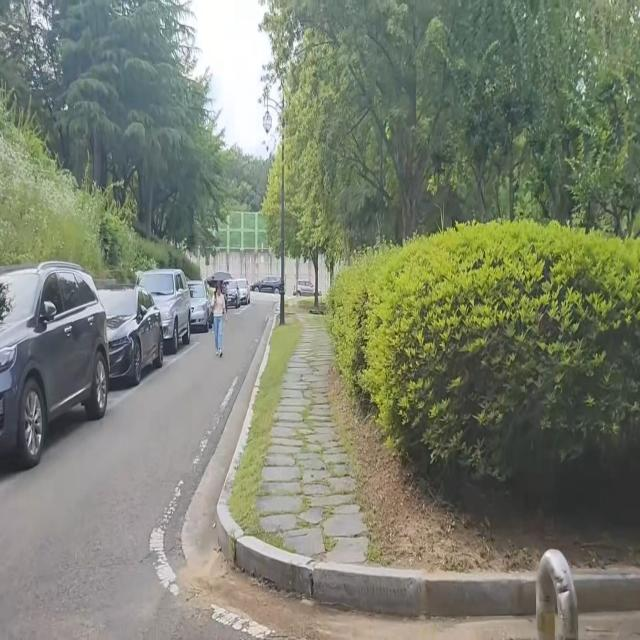obstacle: (0, 252, 122, 486), (88, 258, 200, 401), (521, 539, 588, 640), (204, 264, 235, 361)
road: (0, 298, 315, 640)
sidewalk: (223, 279, 371, 579)
